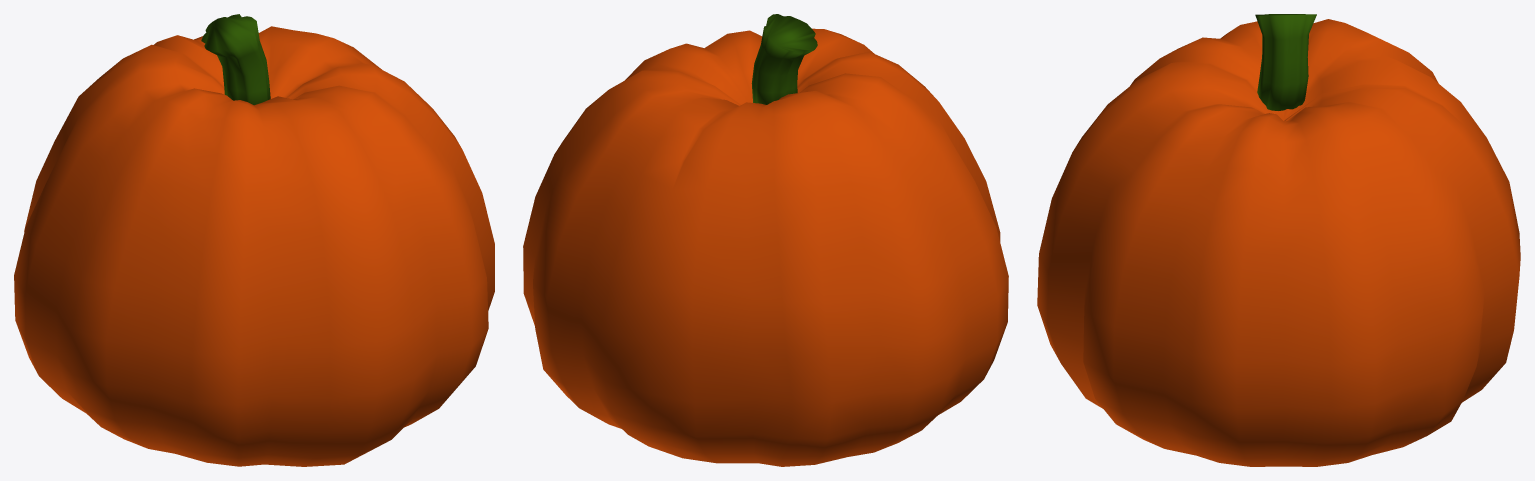
File: Pumpkin_Tall.fbx
The picture shows the model from 3 angles, left to right: view 1: azimuth 30°, elevation 25°; view 2: azimuth 150°, elevation 25°; view 3: azimuth 270°, elevation 25°; orthographic projection.
Visible parts, largest first — view 1: Pumpkin Tall; view 2: Pumpkin Tall; view 3: Pumpkin Tall.
Boxes of the visible parts, x1=… form: Pumpkin Tall: x1=14, y1=14, x2=494, y2=466; Pumpkin Tall: x1=523, y1=14, x2=1008, y2=466; Pumpkin Tall: x1=1037, y1=14, x2=1520, y2=466.
Bounding box in the file's own units: 133 × 123 × 133.
